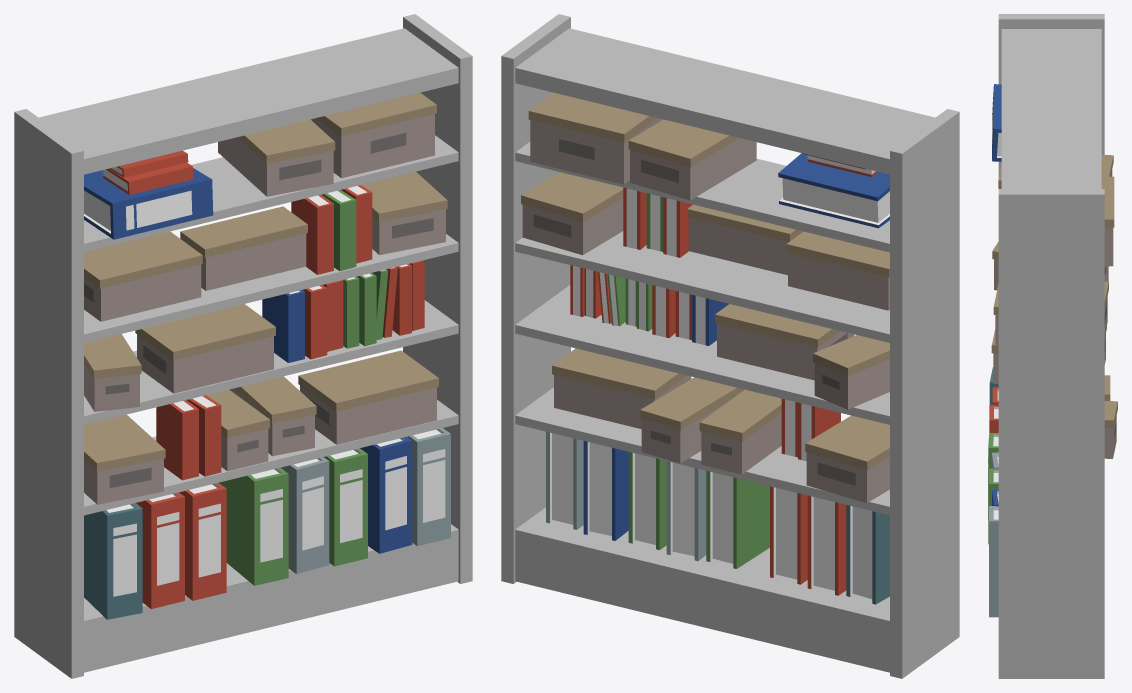
File: SM_Shelf_A1.FBX
3 renders of one model, left to right at view 1: azimuth 30°, elevation 25°; view 2: azimuth 150°, elevation 25°; view 3: azimuth 270°, elevation 25°, orthographic. The views are drawn at different scales.
Visible parts, largest first — view 1: SM_Shelf_A1; view 2: SM_Shelf_A1; view 3: SM_Shelf_A1.
Part boxes in pixels (box(x1,y1,x2,y2)): SM_Shelf_A1: box(14, 14, 472, 678); SM_Shelf_A1: box(501, 14, 959, 678); SM_Shelf_A1: box(988, 14, 1117, 678).
Size of the model in its own units: 181 by 55.11 by 227.
